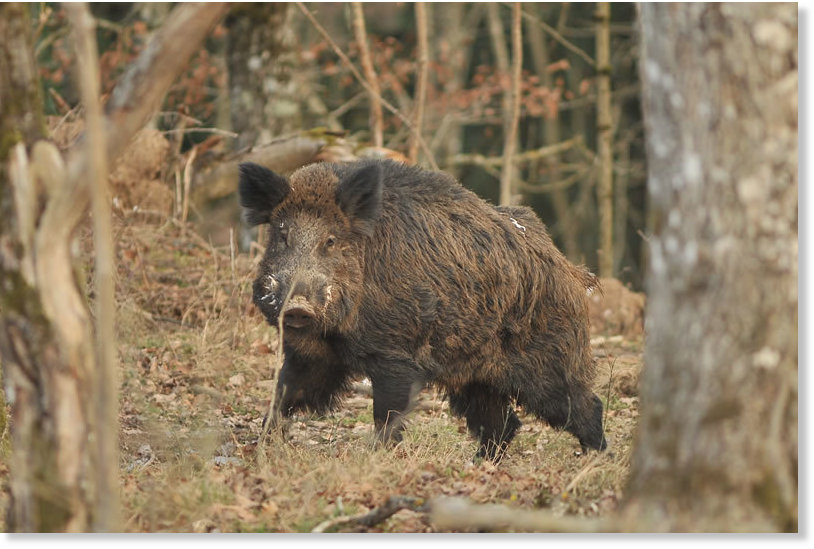wild boar: (223, 142, 620, 467)
